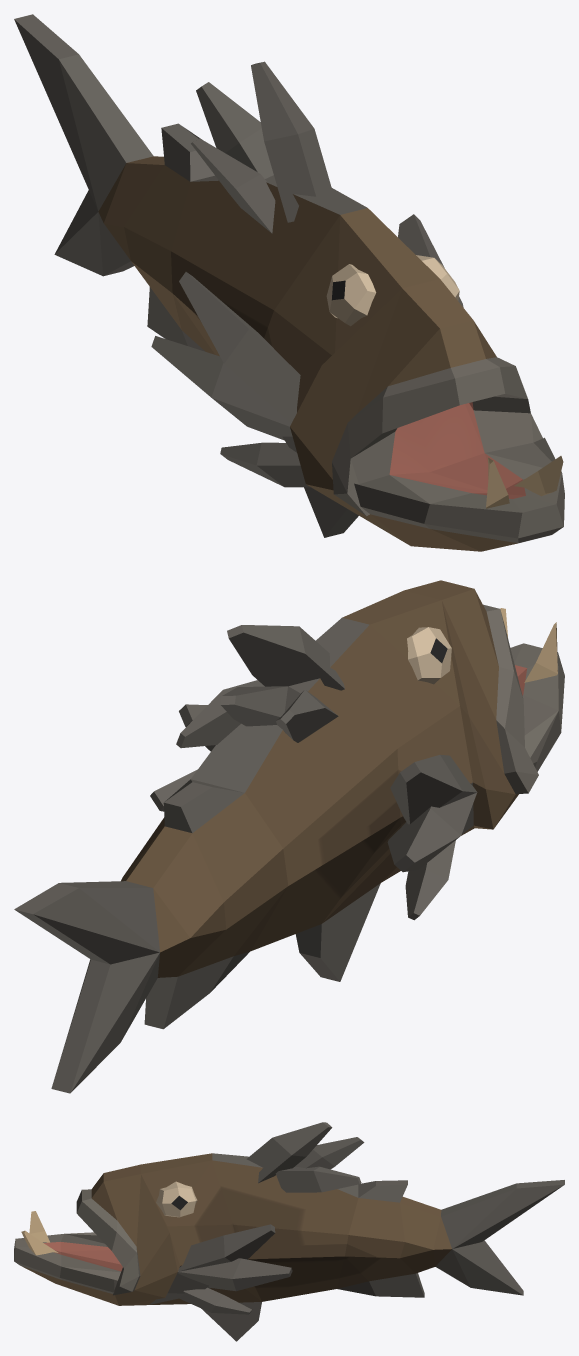
File: SM_Prop_Fish_03.fbx
The picture shows the model from 3 angles, top to bottom: view 1: azimuth 30°, elevation 25°; view 2: azimuth 150°, elevation 25°; view 3: azimuth 270°, elevation 25°; orthographic projection. The views are drawn at different scales.
Visible parts, largest first — view 1: SM_Prop_Fish_03; view 2: SM_Prop_Fish_03; view 3: SM_Prop_Fish_03.
Part boxes in pixels (left/top/right/bottom): SM_Prop_Fish_03: left=14, top=14, right=564, bottom=551; SM_Prop_Fish_03: left=14, top=580, right=564, bottom=1093; SM_Prop_Fish_03: left=14, top=1122, right=564, bottom=1341.
Bounding box in the file's own units: 30.87 × 45.95 × 105.
